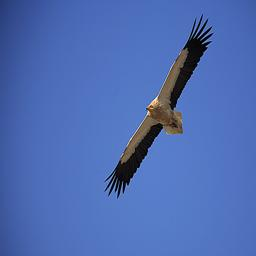bird: (150, 16, 256, 252)
